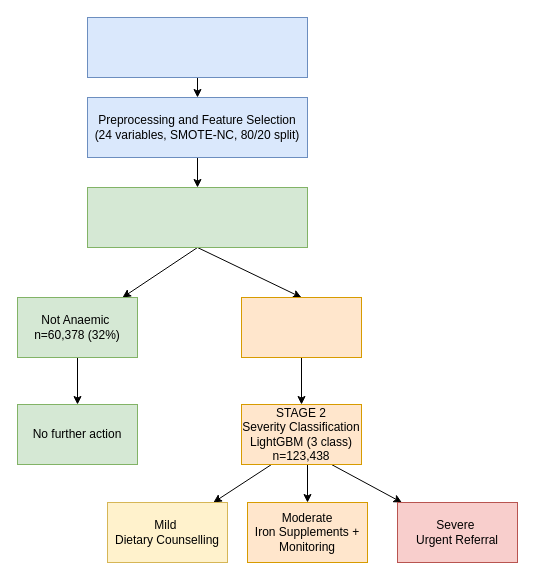
This 535x580 diagram has some shape labels left out. Here are the shapes that lost their labels. From the top down, the box of each, then its label:
(86, 16, 308, 78): NFHS-5 Data 183,816 children (6-59 months)
(86, 186, 308, 248): STAGE 1 Binary Anaemia Screening LightGBM (threshold=0.60) n=183,816
(240, 296, 362, 358): Anaemic n=123,438 (68%)
